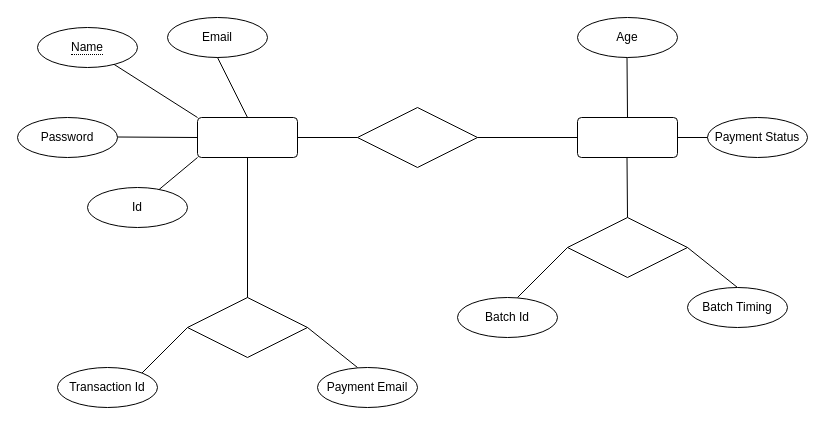
This 825x425 diagram has some shape labels left out. Here are the shapes that lost their labels. From the top down, the centre of each, then its label:
the point at 247,137: User
the point at 417,137: Enrols
the point at 627,137: Admission Form
the point at 627,247: Batch
the point at 247,327: Makes Payment
